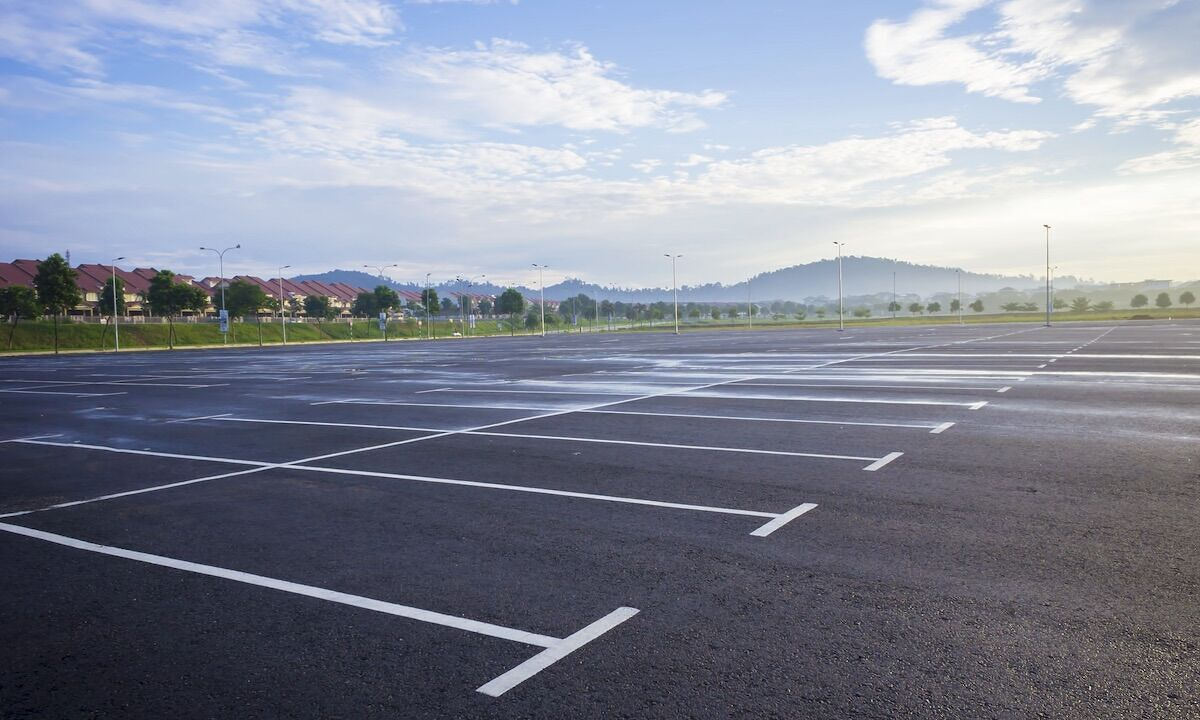Car: (451, 330, 461, 336)
